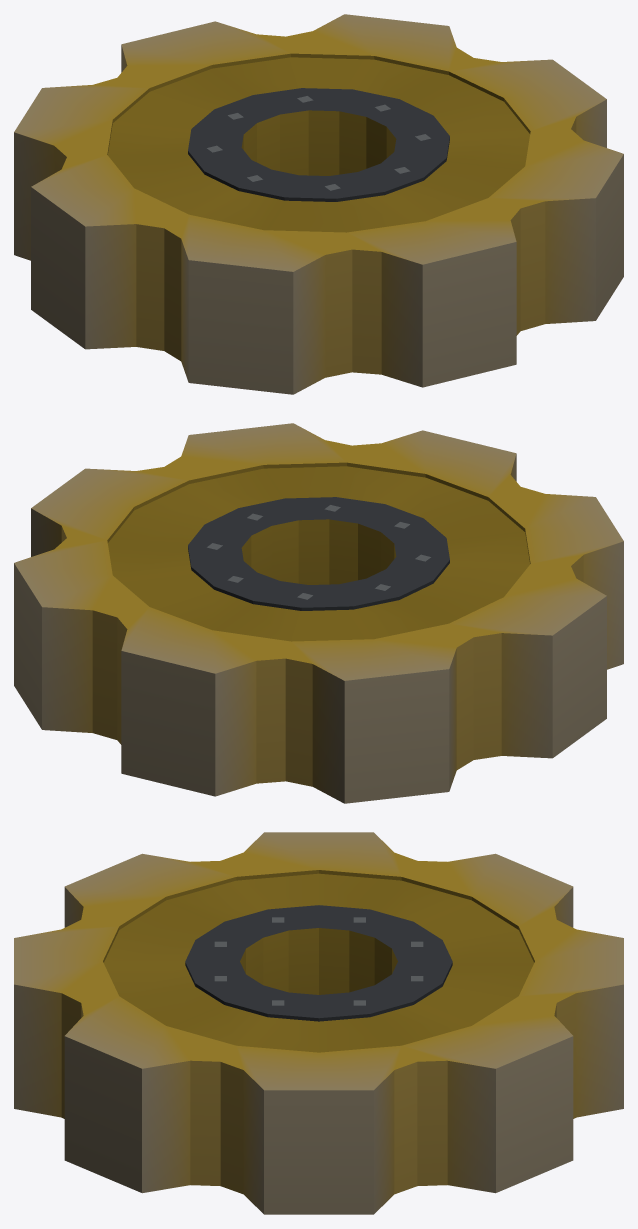
The model's file is machine.cog.yellow.glb.
The picture shows the model from 3 angles, top to bottom: view 1: azimuth 30°, elevation 25°; view 2: azimuth 150°, elevation 25°; view 3: azimuth 270°, elevation 25°; orthographic projection.
Parts seen in each view (by area): view 1: machine_cog_yellow; view 2: machine_cog_yellow; view 3: machine_cog_yellow.
Part boxes in pixels (x1,y1,x2,y2): machine_cog_yellow: (14,14,623,394); machine_cog_yellow: (14,423,623,803); machine_cog_yellow: (14,832,623,1214).
Size of what is drawn, in the model's own units: 8.89 by 2 by 8.89.
